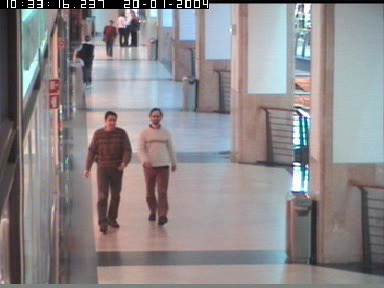person: (83, 110, 132, 232), (137, 107, 177, 225), (72, 35, 94, 89), (115, 11, 130, 47), (103, 19, 117, 56), (129, 11, 140, 46)
